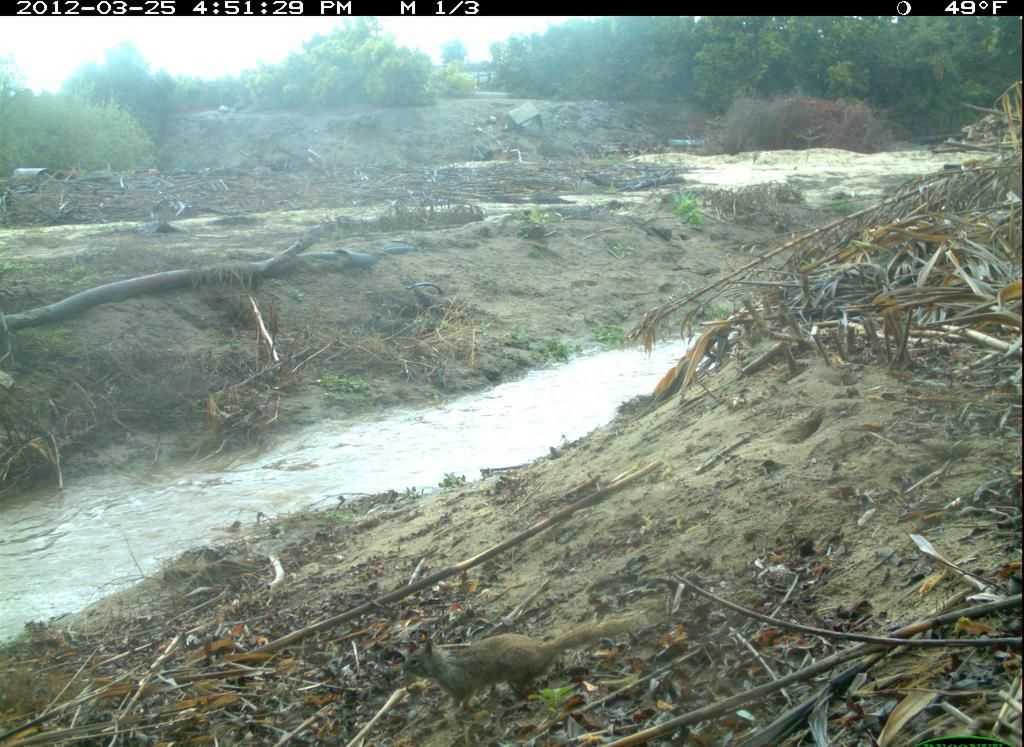squirrel: (400, 611, 651, 717)
